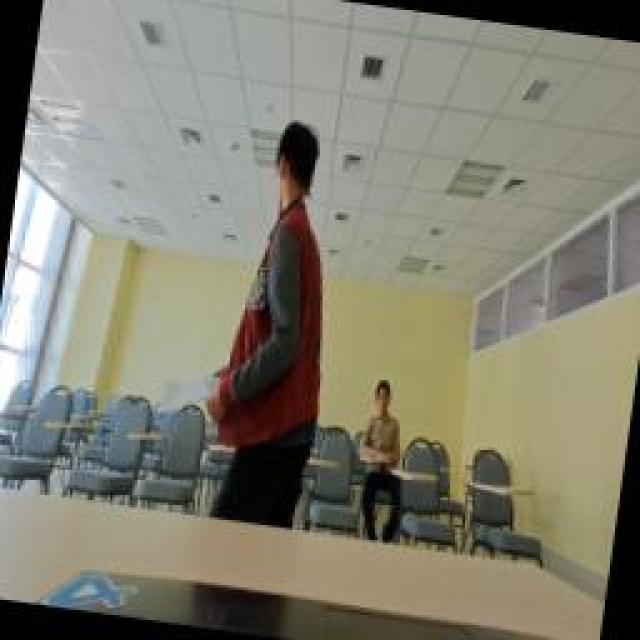study: (358, 378, 408, 460)
